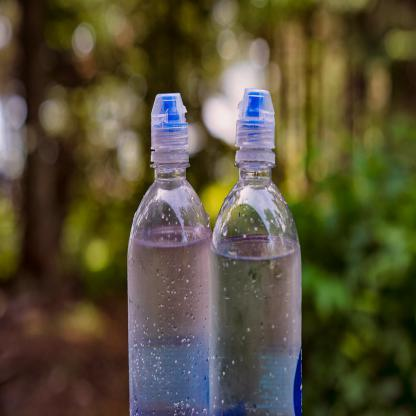bottle: (210, 78, 304, 414), (123, 78, 211, 416)
